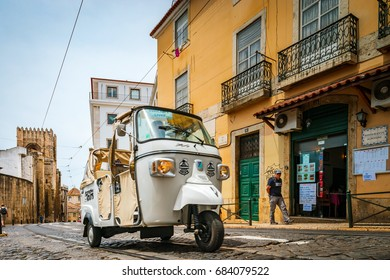threewheel: (79, 106, 230, 252)
